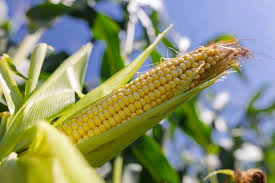milho: (29, 39, 253, 156)
